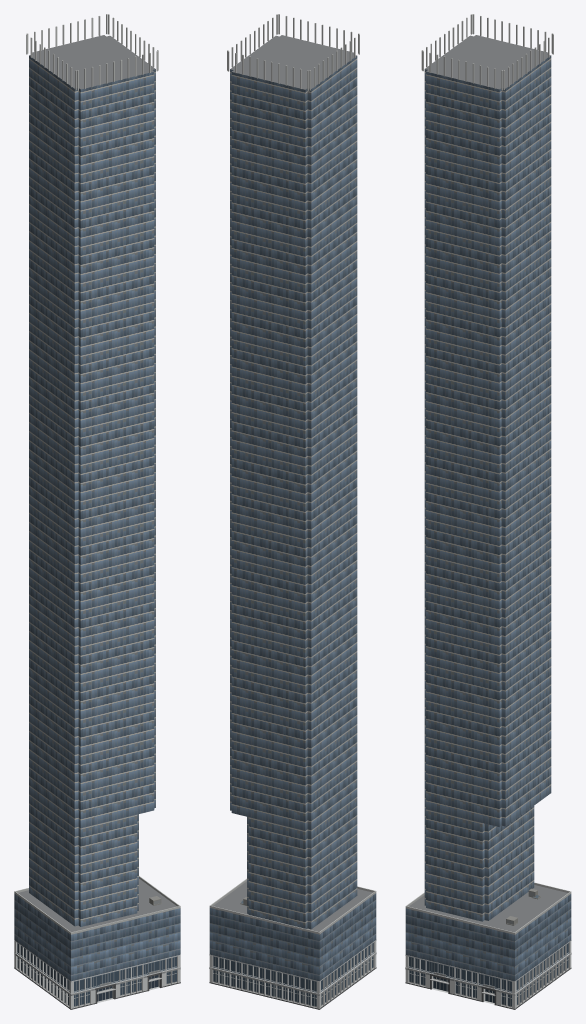
File: central_park_tower.glb
3 views of the same model, side by side, from view 1: azimuth 30°, elevation 25°; view 2: azimuth 150°, elevation 25°; view 3: azimuth 330°, elevation 25° (orthographic).
Visible parts, largest first — view 1: central_park_tower; view 2: central_park_tower; view 3: central_park_tower.
Boxes of the visible parts, left/top/right/bottom form: central_park_tower: left=14, top=14, right=180, bottom=1009; central_park_tower: left=209, top=14, right=376, bottom=1009; central_park_tower: left=405, top=14, right=571, bottom=1009.
Size of the model in its own units: 58.25 by 472 by 52.84.
3 materials, 3 textured.
